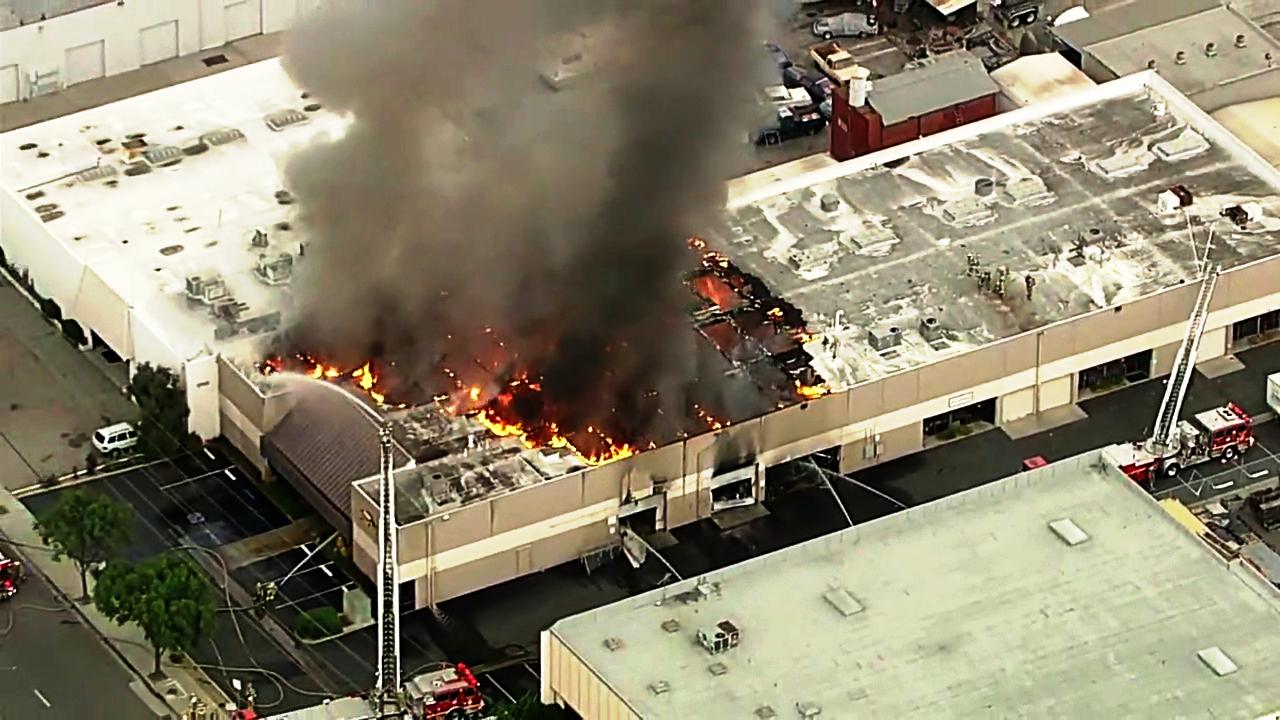fire: (484, 379, 566, 447)
smoke: (331, 0, 612, 300)
